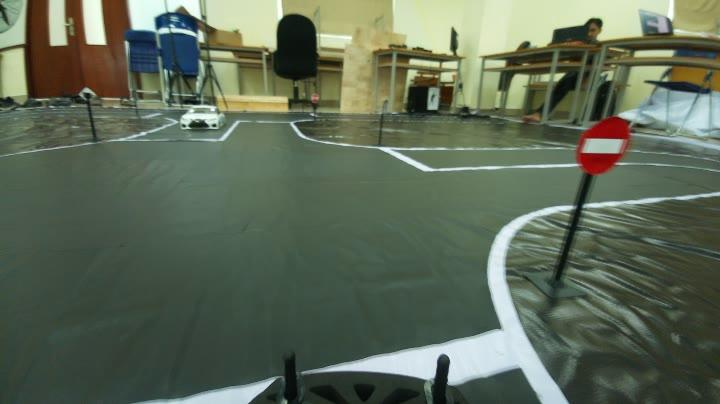no_entry: (569, 104, 624, 175)
